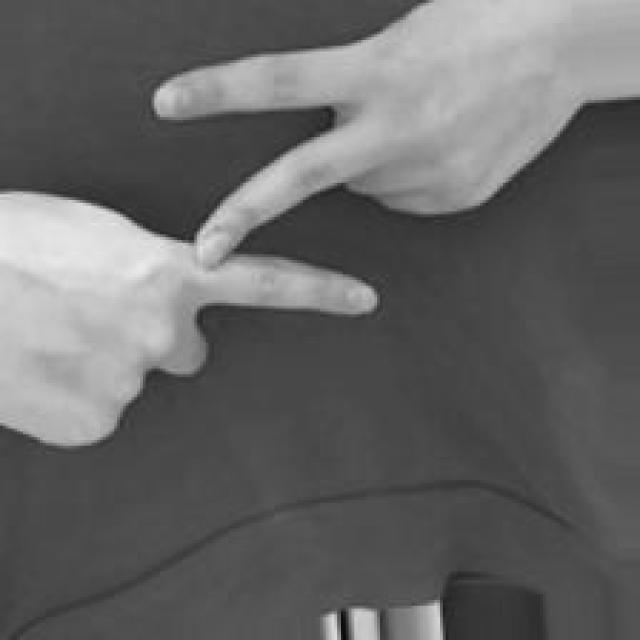Z: (1, 0, 581, 450)
